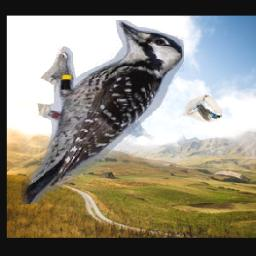Swallow: (183, 95, 222, 122)
Woodpecker: (22, 20, 185, 204)
